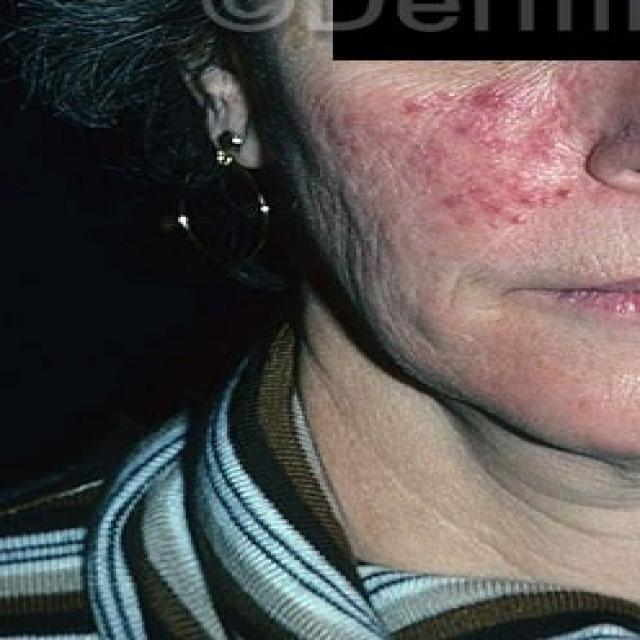Rosacea: (396, 83, 585, 225)
